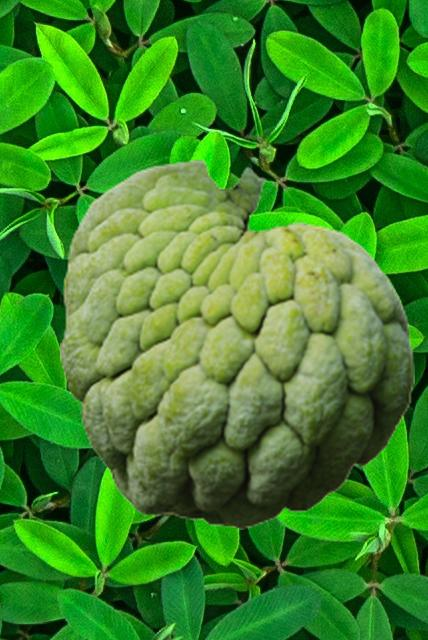atis: (60, 158, 413, 528)
